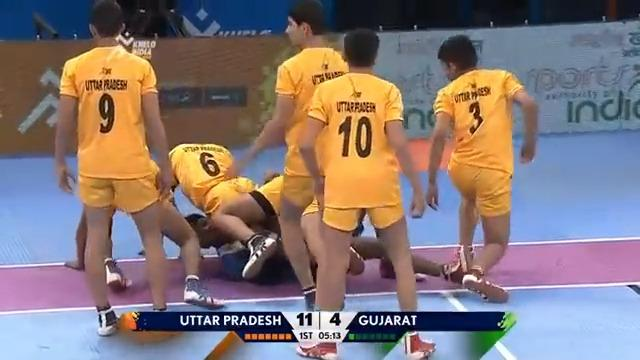Player: (53, 0, 225, 336), (295, 28, 436, 358), (160, 141, 446, 290), (230, 0, 365, 312), (424, 33, 539, 303), (161, 142, 286, 280)
